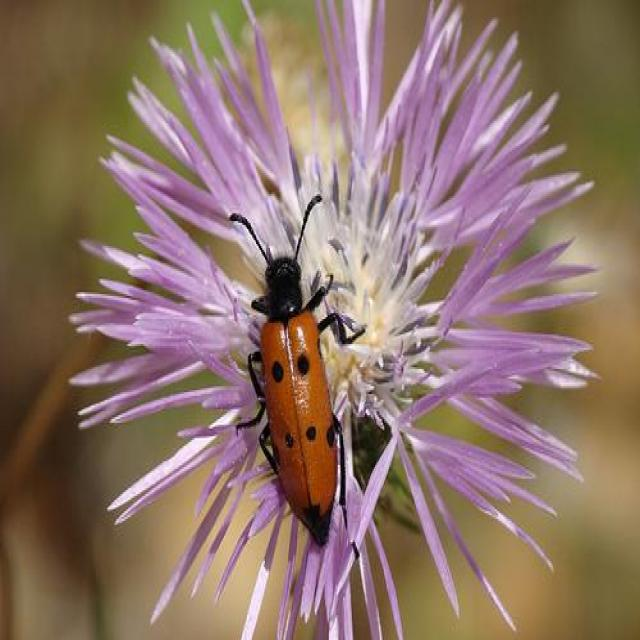BlisterBeetle-Adult-: (225, 193, 368, 549)
